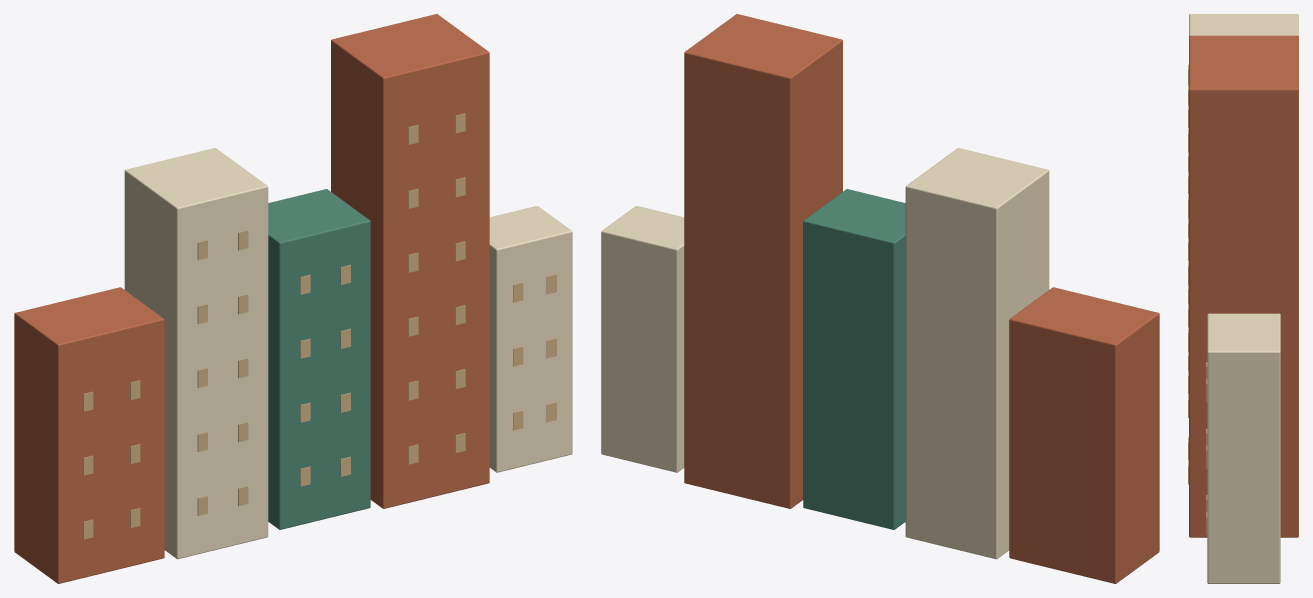
The model's file is tpe5_skyline_block.glb.
3 renders of one model, left to right at view 1: azimuth 30°, elevation 25°; view 2: azimuth 150°, elevation 25°; view 3: azimuth 270°, elevation 25°, orthographic. The views are drawn at different scales.
Parts seen in each view (by area): view 1: tpe5_skyline_block__tpe5-street-cinnabar, tpe5_skyline_block__tpe5-street-ivory, tpe5_skyline_block__tpe5-street-jade, tpe5_skyline_block__tpe5-street-brass; view 2: tpe5_skyline_block__tpe5-street-cinnabar, tpe5_skyline_block__tpe5-street-ivory, tpe5_skyline_block__tpe5-street-jade; view 3: tpe5_skyline_block__tpe5-street-cinnabar, tpe5_skyline_block__tpe5-street-ivory, tpe5_skyline_block__tpe5-street-brass.
Boxes of the visible parts, left/top/right/bottom form: tpe5_skyline_block__tpe5-street-cinnabar: left=14, top=14, right=489, bottom=583; tpe5_skyline_block__tpe5-street-ivory: left=124, top=148, right=572, bottom=559; tpe5_skyline_block__tpe5-street-jade: left=268, top=189, right=370, bottom=529; tpe5_skyline_block__tpe5-street-brass: left=83, top=113, right=556, bottom=539; tpe5_skyline_block__tpe5-street-cinnabar: left=684, top=14, right=1159, bottom=583; tpe5_skyline_block__tpe5-street-ivory: left=601, top=148, right=1049, bottom=559; tpe5_skyline_block__tpe5-street-jade: left=803, top=189, right=905, bottom=529; tpe5_skyline_block__tpe5-street-cinnabar: left=1189, top=35, right=1298, bottom=537; tpe5_skyline_block__tpe5-street-ivory: left=1189, top=14, right=1298, bottom=583; tpe5_skyline_block__tpe5-street-brass: left=1188, top=64, right=1207, bottom=535.
Bounding box in the file's own units: 34 × 27 × 6.05.
